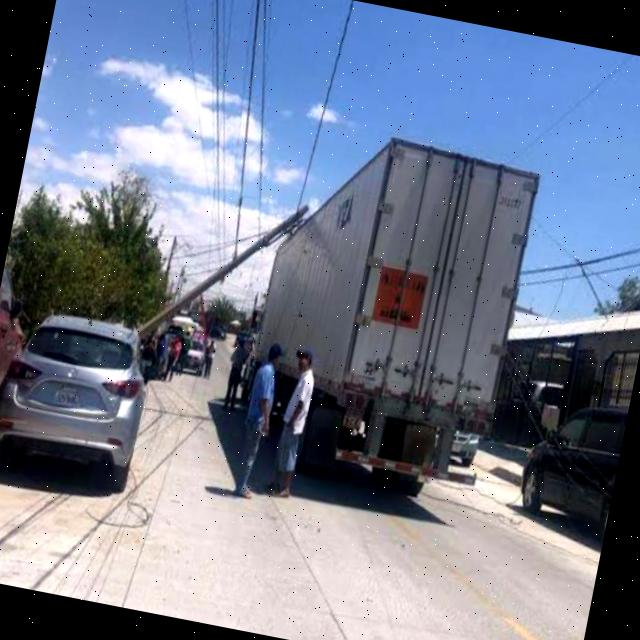Broken Pole: (135, 202, 311, 343)
